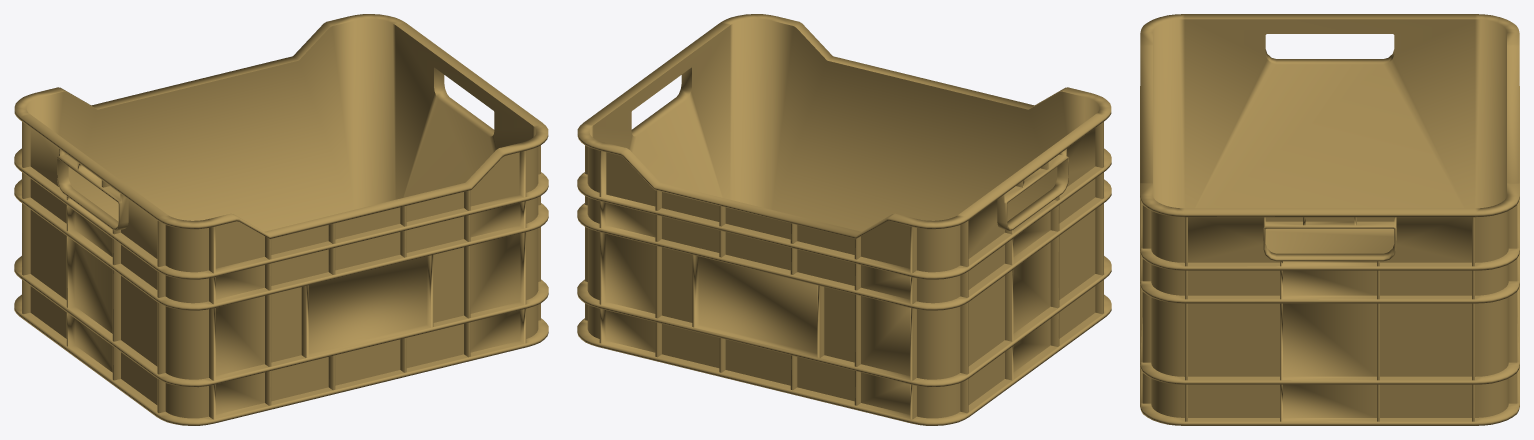
The model's file is plastic_crate_02.fbx.
3 views of the same model, side by side, from view 1: azimuth 30°, elevation 25°; view 2: azimuth 150°, elevation 25°; view 3: azimuth 270°, elevation 25° (orthographic). The views are drawn at different scales.
Visible parts, largest first — view 1: plastic_crate_02_LOD0; view 2: plastic_crate_02_LOD0; view 3: plastic_crate_02_LOD0.
Part boxes in pixels (<box>): plastic_crate_02_LOD0: <box>14,14,548,425</box>; plastic_crate_02_LOD0: <box>577,14,1111,425</box>; plastic_crate_02_LOD0: <box>1140,14,1519,425</box>.
Size of what is drawn, in the model's own units: 50.55 by 25.41 by 40.55.
